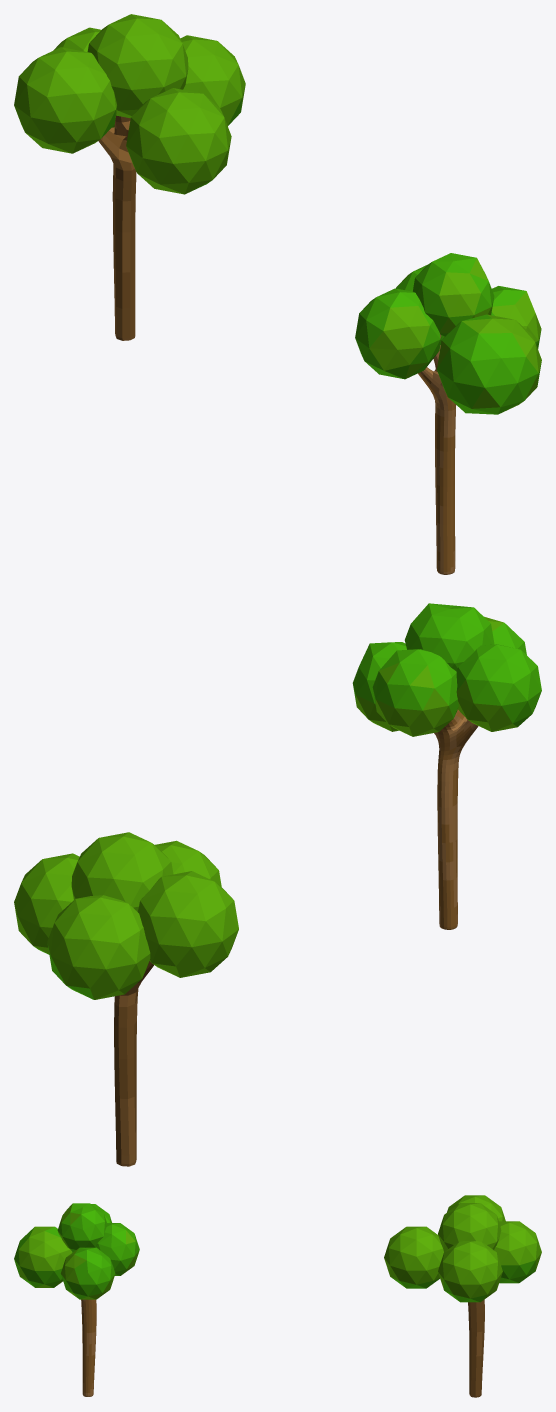
File: arbol1.glb
3 renders of one model, top to bottom at view 1: azimuth 30°, elevation 25°; view 2: azimuth 150°, elevation 25°; view 3: azimuth 270°, elevation 25°, orthographic. The views are drawn at different scales.
Visible parts, largest first — view 1: Arbol2, Arbol1; view 2: Arbol2, Arbol1; view 3: Arbol2, Arbol1.
Boxes of the visible parts, x1,y1,x2,y2 form: Arbol2: (14,14,245,340); Arbol1: (355,253,541,574); Arbol2: (14,832,238,1166); Arbol1: (352,603,541,929); Arbol2: (384,1195,541,1397); Arbol1: (14,1203,139,1396).
Bounding box in the file's own units: 2.62 × 3.79 × 9.39.
